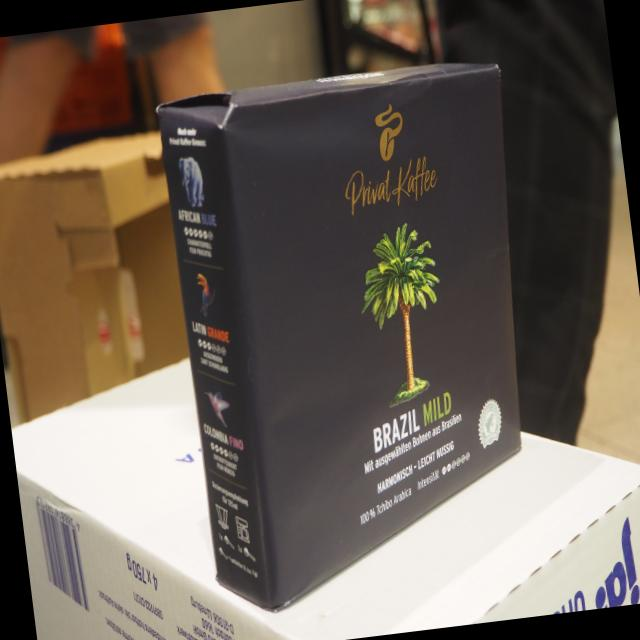BM Gemahlen: (152, 53, 523, 640)
